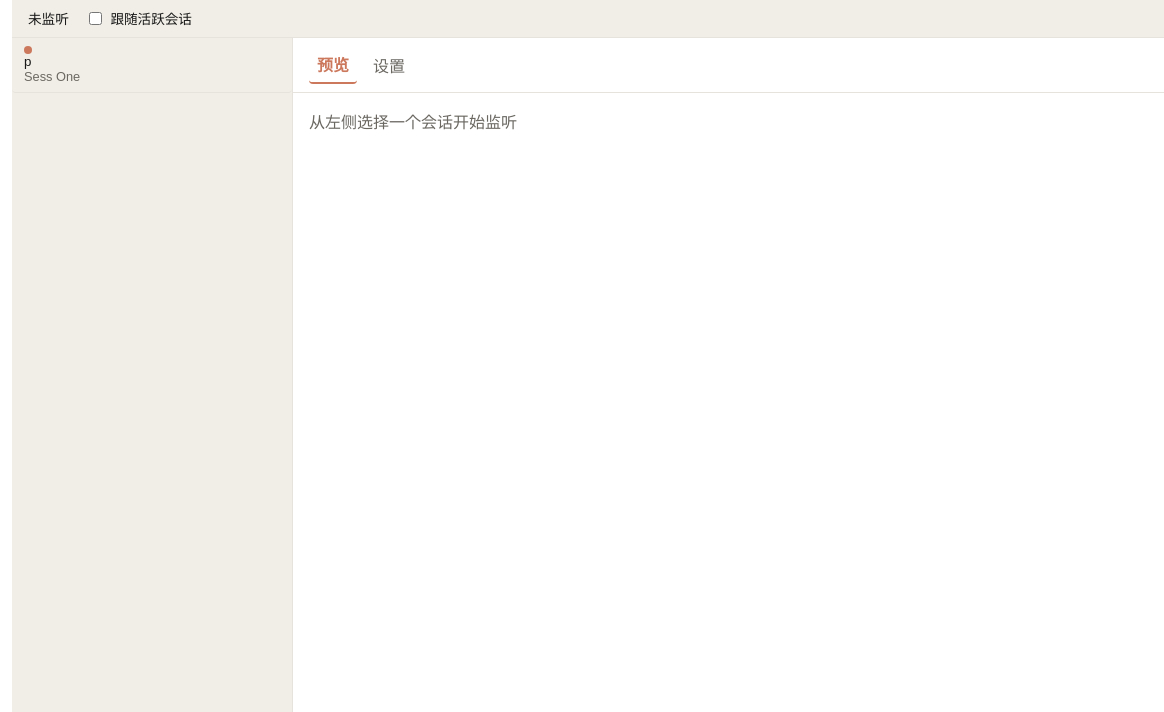
App tab switching › keeps the preview content visible after switching to settings and back
Expected: the text "从左侧选择一个会话开始监听" is shown, [309,112,517,134]
What coordinates should you click on to do the following:
click the text "Sess One"
I would click on:
 (52, 76)
Its box is [24,69,80,84].
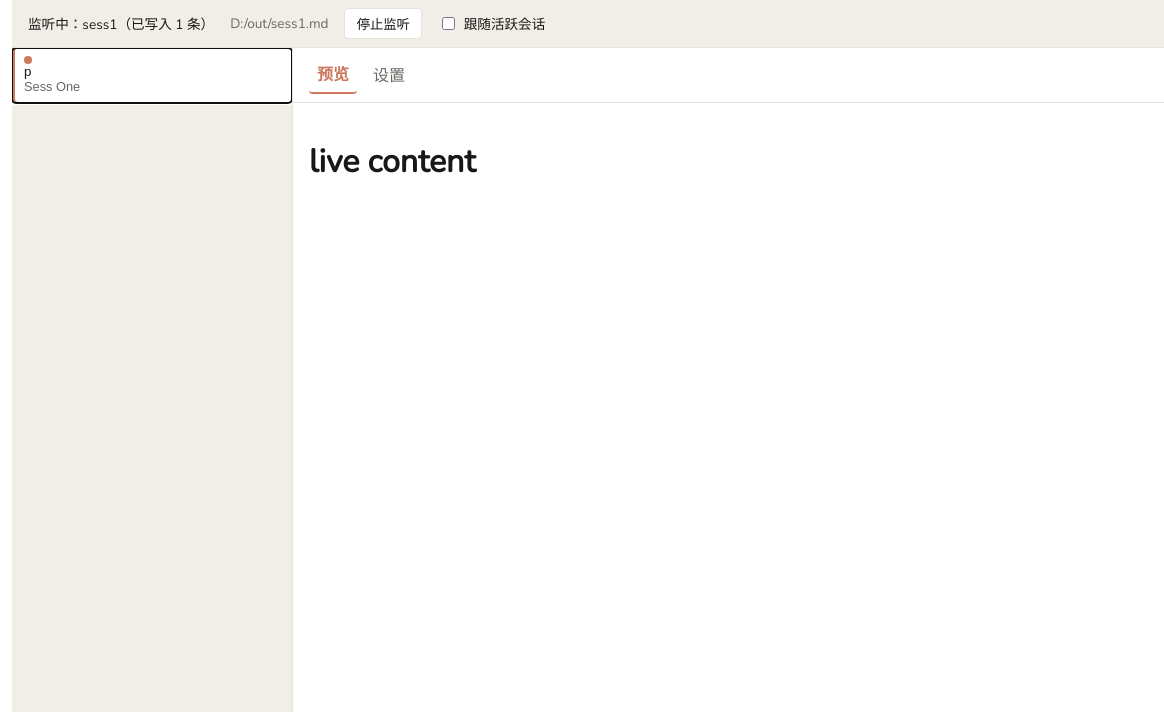
Expected: the heading "live content" is shown, [309,140,475,183]
What coordinates should you click on to do the following:
click the button "设置"
I would click on:
 (389, 75)
Its box is [365,56,413,94].
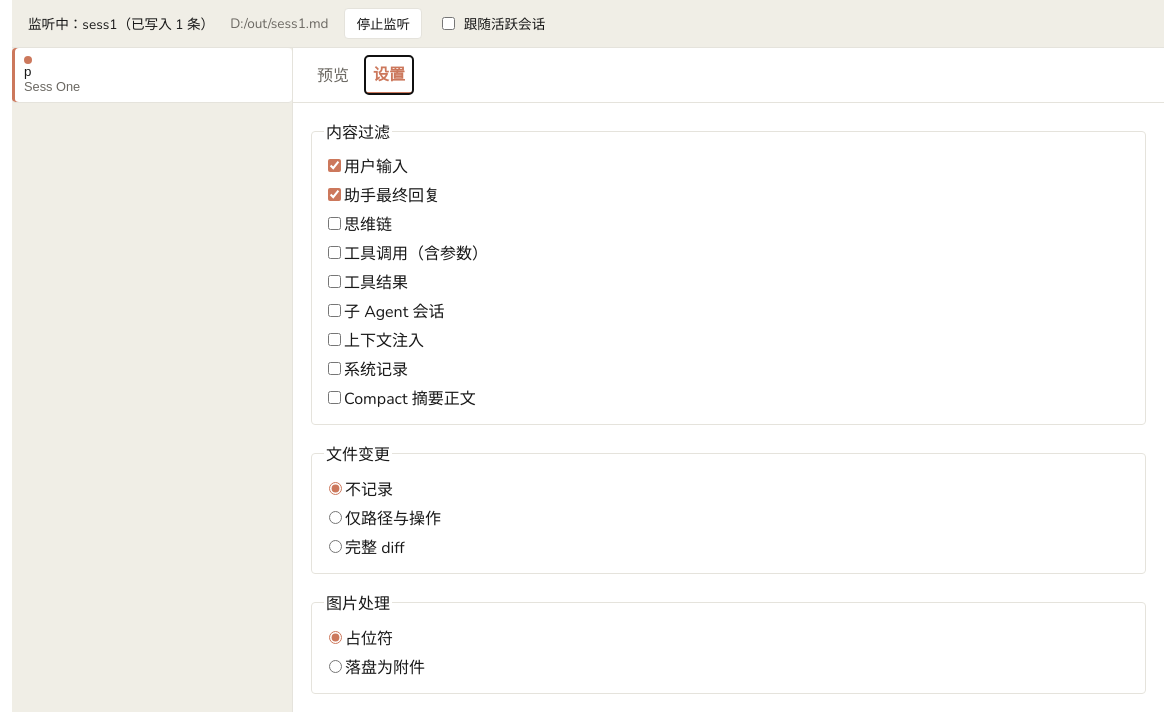
Expected: the heading "live content" is gone
What coordinates should you click on to do the following:
click the button "预览"
I would click on:
 (333, 75)
Its box is [309,56,357,94].
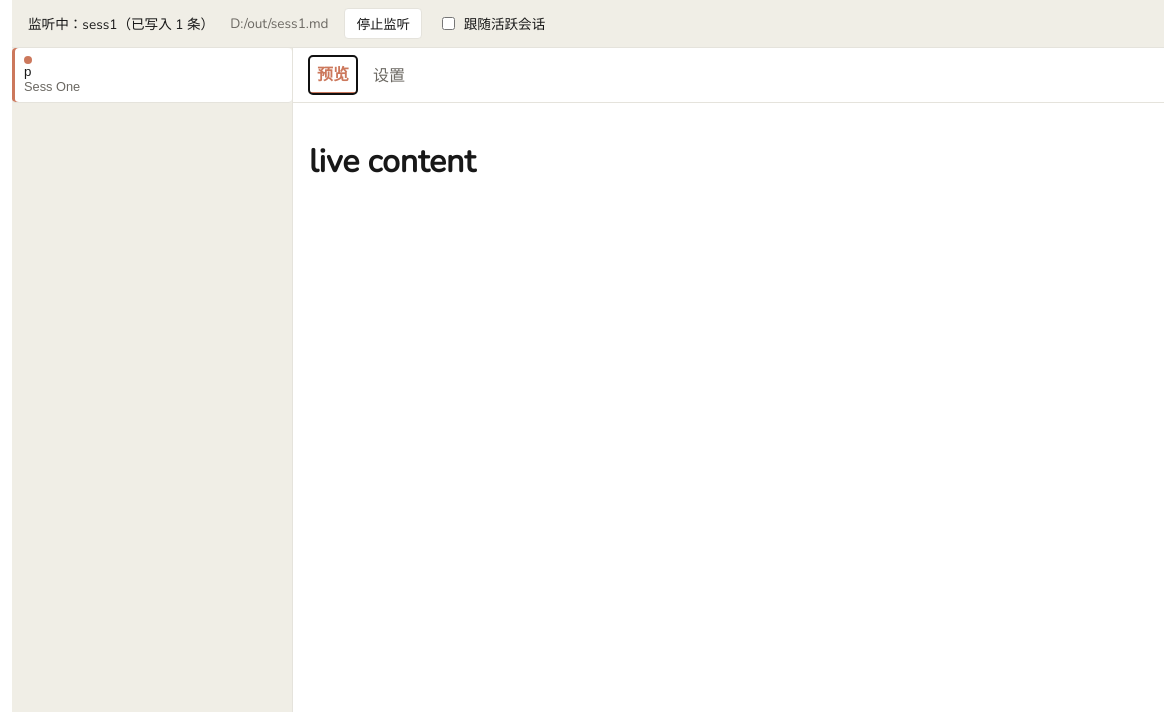
Expected: the heading "live content" is shown, [309,140,475,183]
